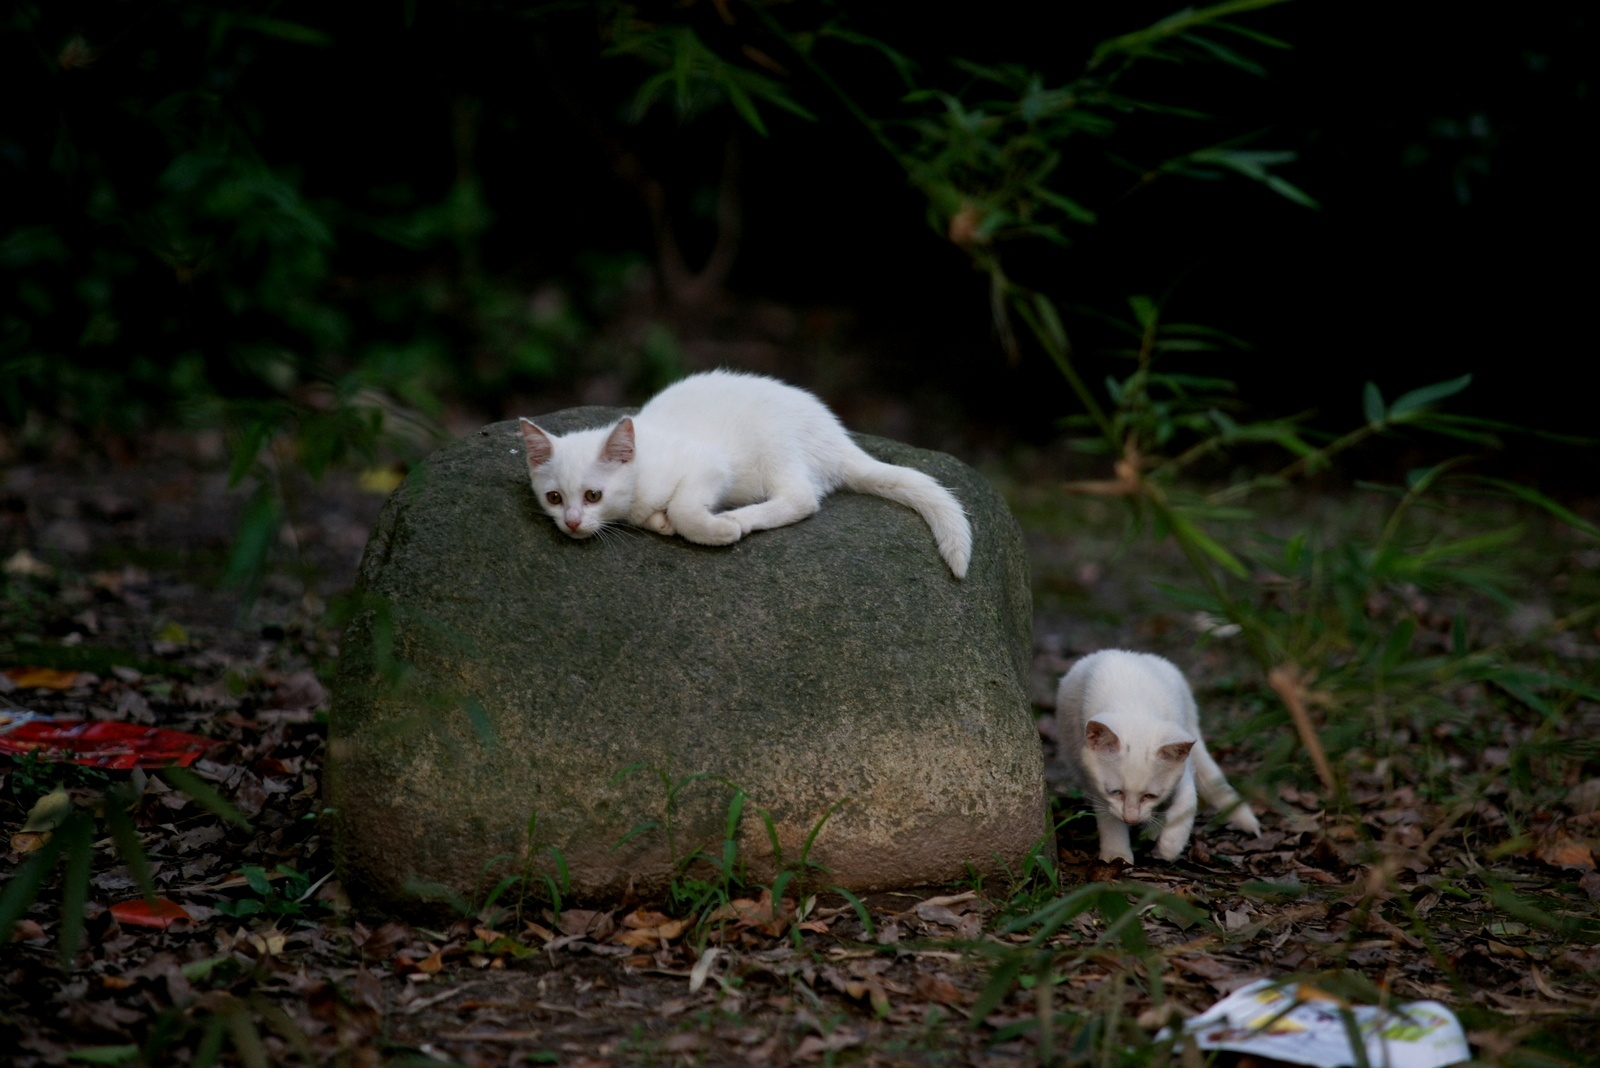cat: (516, 366, 975, 584), (1054, 647, 1259, 868)
